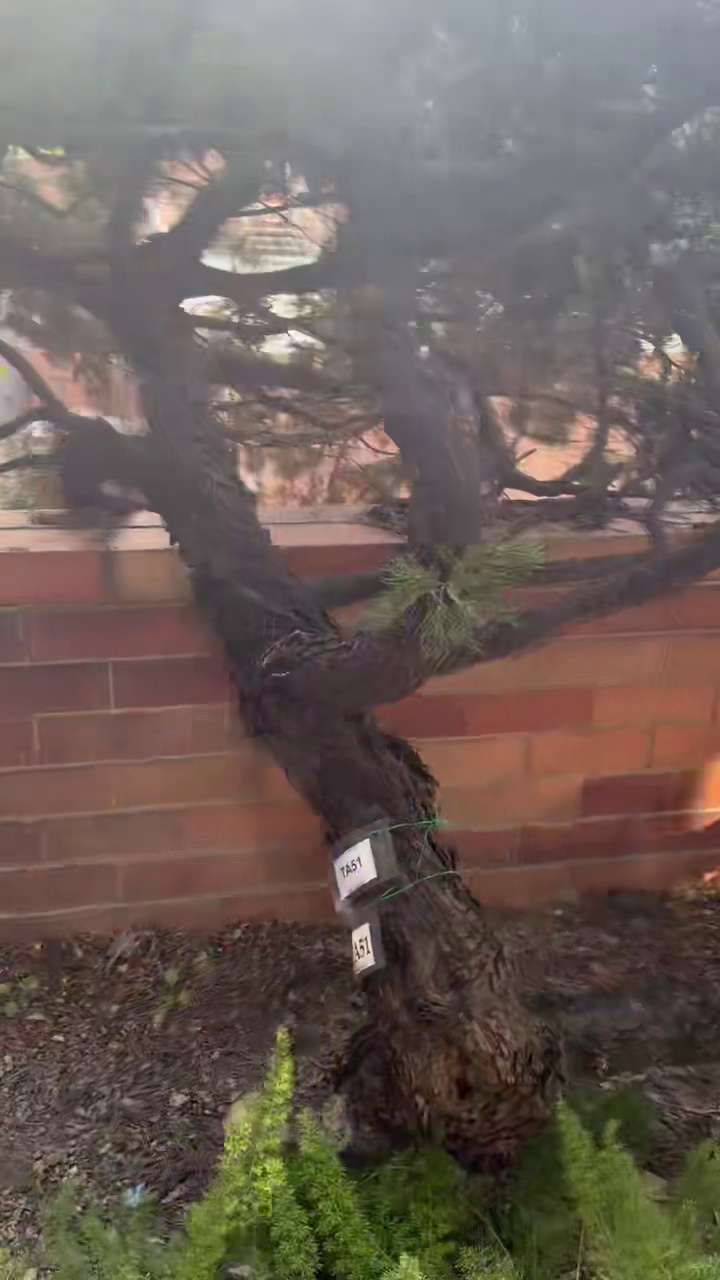Juniperus chinensis: (0, 0, 719, 1166)
